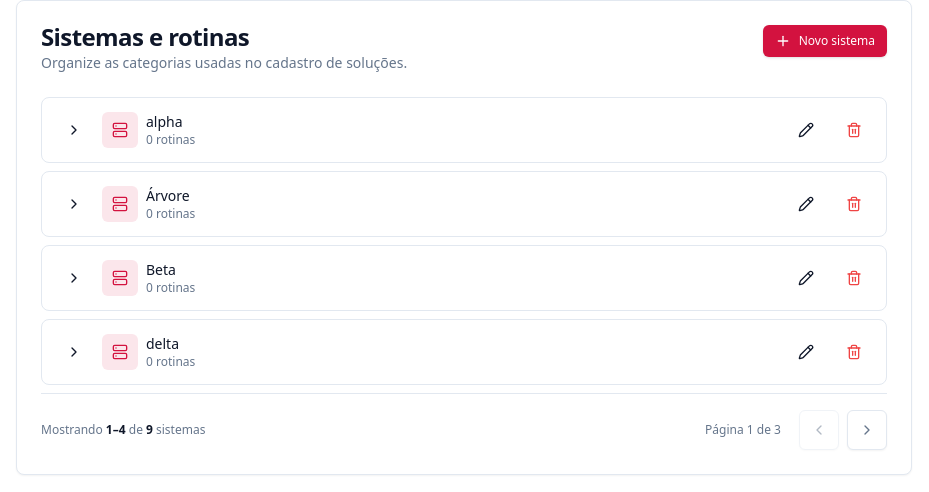
it: SystemsManager › ordena alfabeticamente e pagina os sistemas de quatro em quatro
Expected: the number of elements with test id "sd-system-name" is 4, x1=146 y1=112 x2=183 y2=131; x1=146 y1=186 x2=190 y2=205; x1=146 y1=260 x2=176 y2=279; x1=146 y1=334 x2=179 y2=353
Expected: the elements with test id "sd-system-name" read "alpha", "Árvore", "Beta", "delta", in this order, x1=146 y1=112 x2=183 y2=131; x1=146 y1=186 x2=190 y2=205; x1=146 y1=260 x2=176 y2=279; x1=146 y1=334 x2=179 y2=353
Click the button named "Próxima página de sistemas" at (867,430), box x1=847 y1=410 x2=887 y2=450
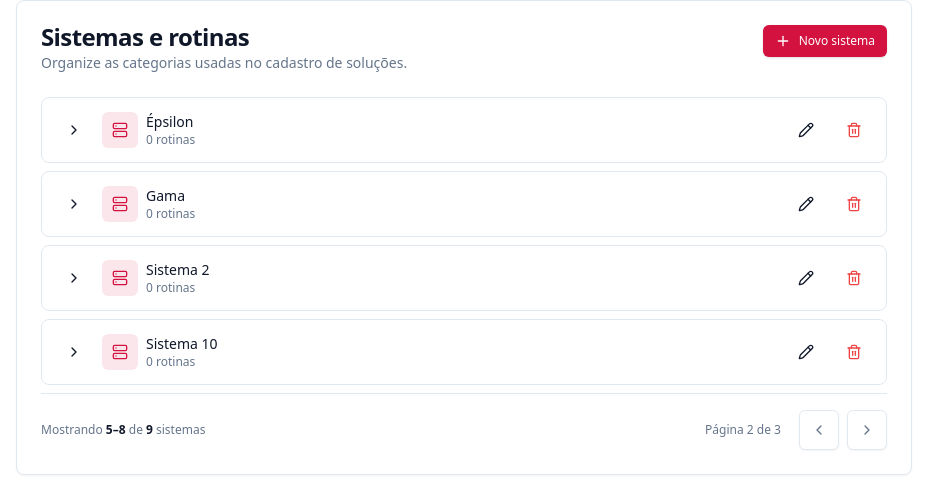
Result: the elements with test id "sd-system-name" read "Épsilon", "Gama", "Sistema 2", "Sistema 10", in this order at x1=146 y1=112 x2=194 y2=131; x1=146 y1=186 x2=185 y2=205; x1=146 y1=260 x2=210 y2=279; x1=146 y1=334 x2=218 y2=353
Result: the text "Página 2 de 3" is shown at x1=705 y1=421 x2=781 y2=438
Click the button named "Próxima página de sistemas" at (867,430), box x1=847 y1=410 x2=887 y2=450
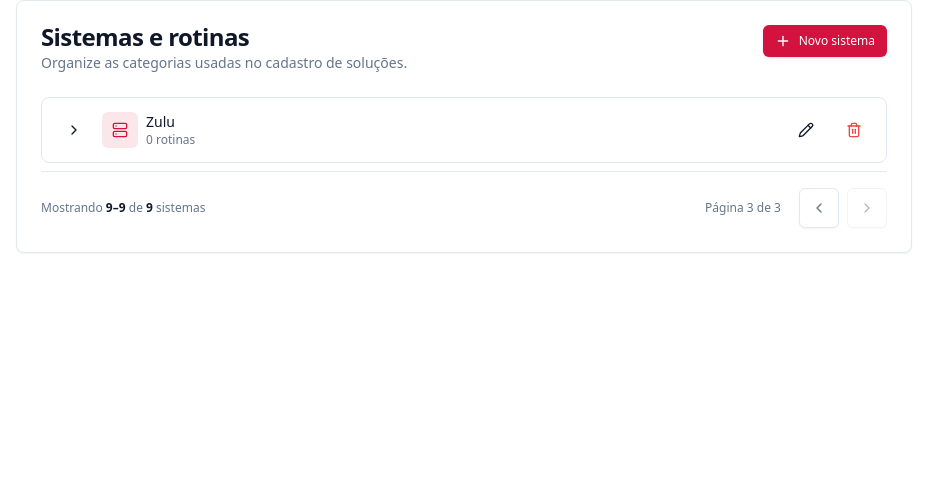
Result: the elements with test id "sd-system-name" read "Zulu", in this order at x1=146 y1=112 x2=175 y2=131
Result: the text "Página 3 de 3" is shown at x1=705 y1=199 x2=781 y2=216
